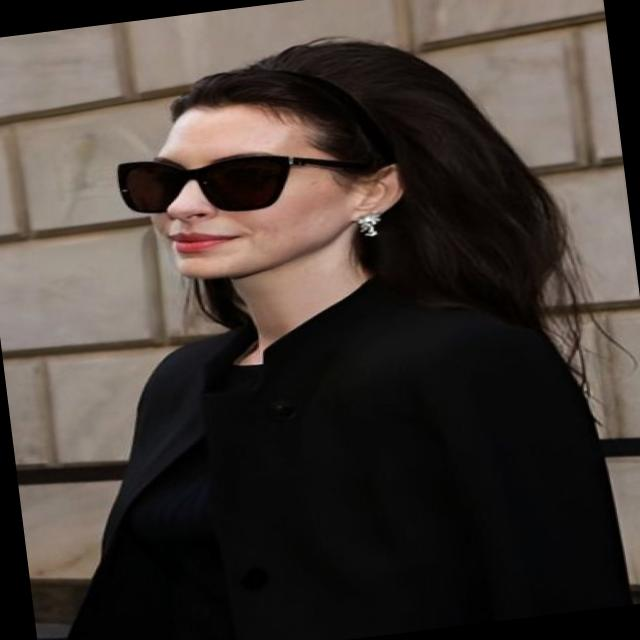glasses: (108, 130, 362, 230)
